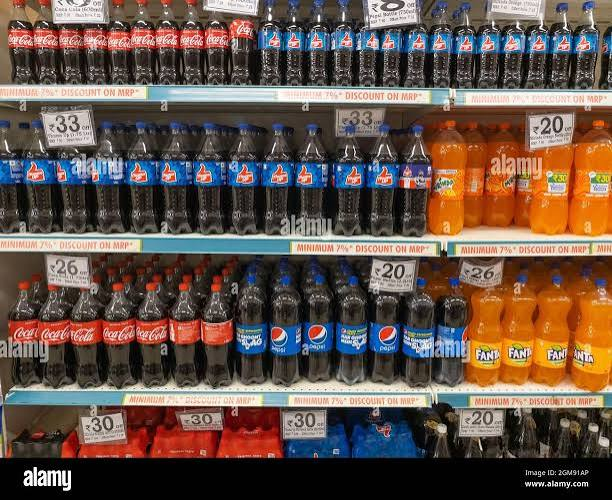soft_drink: (136, 278, 175, 390), (266, 276, 304, 386), (126, 119, 161, 234), (368, 121, 402, 238), (534, 277, 570, 385), (193, 120, 226, 234)
